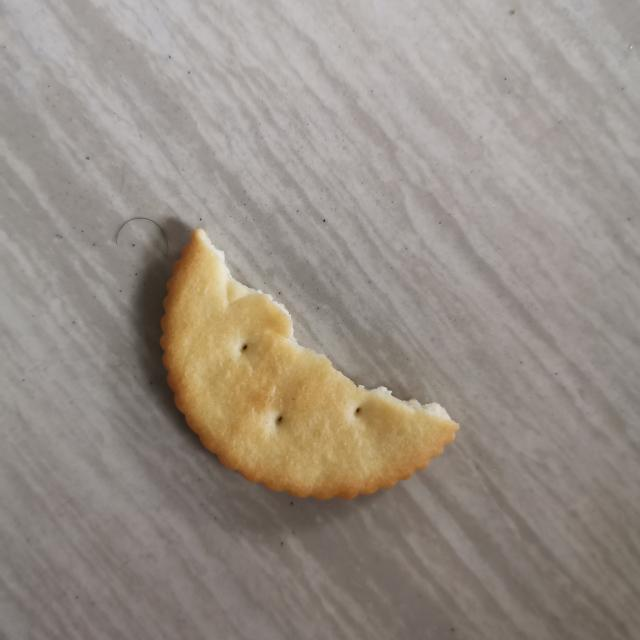Broken: (158, 227, 459, 501)
